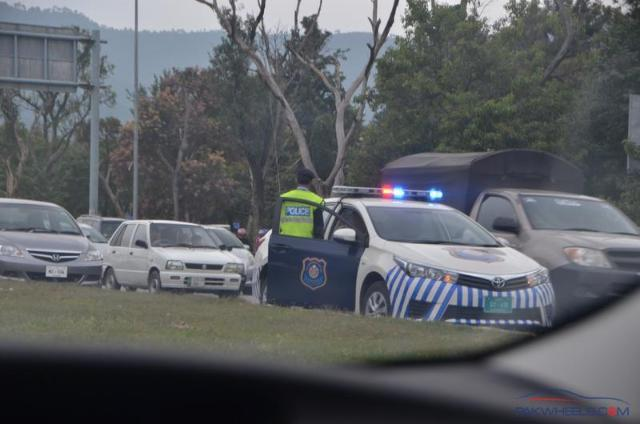police: (276, 183, 554, 333)
